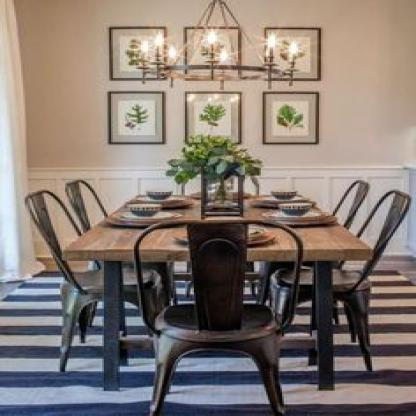table: (47, 184, 379, 391)
